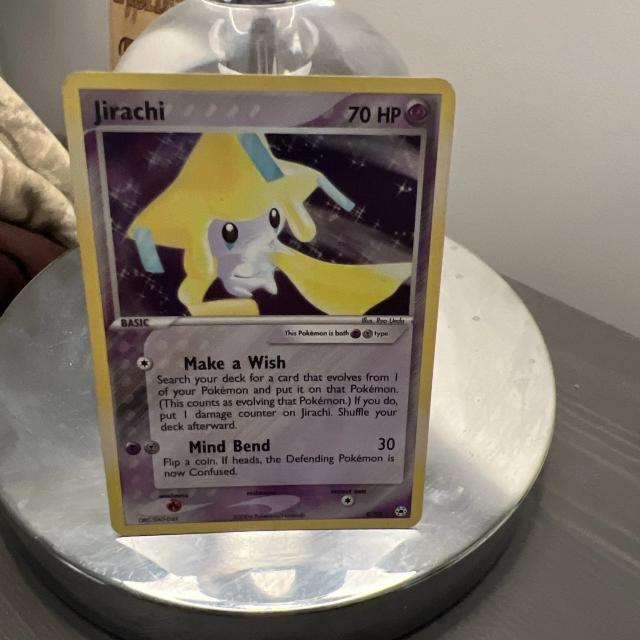Card: (58, 66, 460, 540)
Name: (87, 95, 171, 128)
